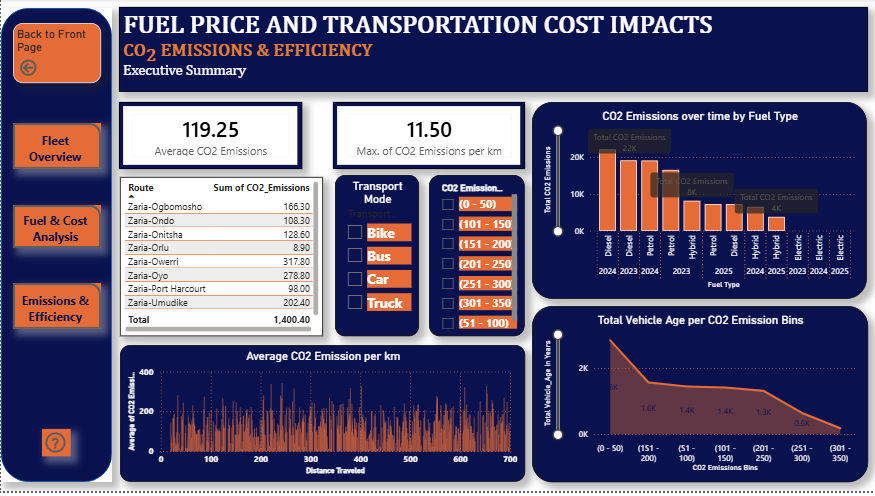

The page's visual inventory and layout, read from the dashboard file:
{"tool":"powerbi","page":{"name":"Page 3","canvas":[1280,720],"ordinal":2},"visuals":[{"type":"textbox","box":[172.7,11.7,1096.1,124.4],"z":0},{"type":"shape","box":[0,13.2,162.4,693.7],"z":1000},{"type":"actionButton","box":[17.6,181.5,128.8,67.3],"z":2000},{"type":"actionButton","box":[17.6,301.5,128.8,62.9],"z":3000},{"type":"actionButton","box":[17.6,415.6,128.8,67.3],"z":4000},{"type":"cardVisual","fields":{"Data":["Avg(Working Dataset.CO2_Emissions)"]},"box":[172.7,150.7,267.8,98],"z":5000},{"type":"cardVisual","fields":{"Data":["Max(Working Dataset.CO2_Emissions per km)"]},"box":[485.9,150.7,281,98],"z":6000},{"type":"stackedAreaChart","title":"Total Vehicle Age per CO2 Emission Bins","fields":{"Y":["Sum(Working Dataset.Vehicle_Age Years)"],"Category":["Working Dataset.CO2_Emissions Bins"]},"box":[777.1,449.3,491.7,257.6],"z":7000},{"type":"lineStackedColumnComboChart","title":"CO2 Emissions over time by Fuel Type","fields":{"Category":["Working Dataset.Trip_Date Bin","Working Dataset.Fuel_Type"],"Y":["Sum(Working Dataset.CO2_Emissions)"]},"box":[777.1,150.7,490.2,288.3],"z":8000},{"type":"ribbonChart","title":"Average CO2 Emission per km","fields":{"Category":["Working Dataset.Distance_Traveled"],"Y":["Avg(Working Dataset.CO2_Emissions)"]},"box":[174.1,506.3,592.7,200.5],"z":9000},{"type":"tableEx","fields":{"Values":["Working Dataset.Route","Sum(Working Dataset.CO2_Emissions)"]},"box":[174.1,260.5,297.1,232.7],"z":10000},{"type":"slicer","title":"Transport Mode","fields":{"Values":["Working Dataset.Transport_Mode"]},"box":[488.8,257.6,122.9,235.6],"z":11000},{"type":"slicer","fields":{"Values":["Working Dataset.CO2_Emissions Bins"]},"box":[626.3,257.6,140.5,235.6],"z":12000},{"type":"actionButton","title":"help","box":[60,629.3,42.4,39.5],"z":14000},{"type":"actionButton","title":"Back to Front Page","box":[17.6,35.1,128.8,87.8],"z":15000}]}

Visuals, with their boxes in screenshot pixels (x1, y1, x2, y2), scaled from the page's 1280x720 canvas onto the 875x496 screenshot:
textbox: <box>118,8,867,94</box>
shape: <box>0,9,111,487</box>
actionButton: <box>12,125,100,171</box>
actionButton: <box>12,208,100,251</box>
actionButton: <box>12,286,100,333</box>
cardVisual - Avg(Working Dataset.CO2_Emissions): <box>118,104,301,171</box>
cardVisual - Max(Working Dataset.CO2_Emissions per km): <box>332,104,524,171</box>
"Total Vehicle Age per CO2 Emission Bins" stackedAreaChart: <box>531,310,867,487</box>
"CO2 Emissions over time by Fuel Type" lineStackedColumnComboChart: <box>531,104,866,302</box>
"Average CO2 Emission per km" ribbonChart: <box>119,349,524,487</box>
tableEx - Working Dataset.Route x Sum(Working Dataset.CO2_Emissions): <box>119,179,322,340</box>
"Transport Mode" slicer: <box>334,177,418,340</box>
slicer - Working Dataset.CO2_Emissions Bins: <box>428,177,524,340</box>
"help" actionButton: <box>41,434,70,461</box>
"Back to Front Page" actionButton: <box>12,24,100,85</box>
